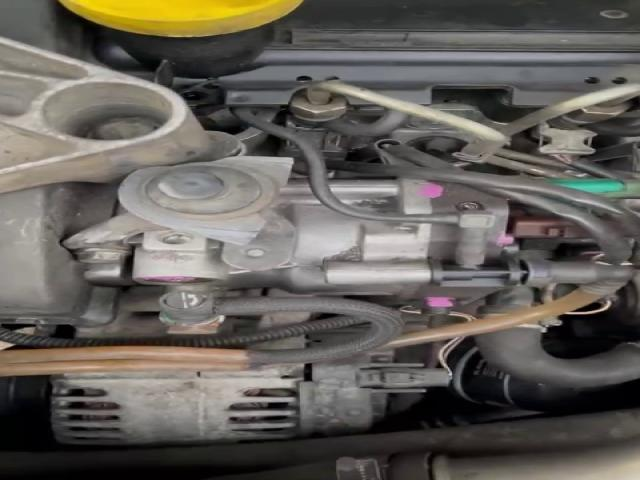alternator: (51, 365, 303, 445)
high_pressure_pump: (68, 179, 634, 313)
